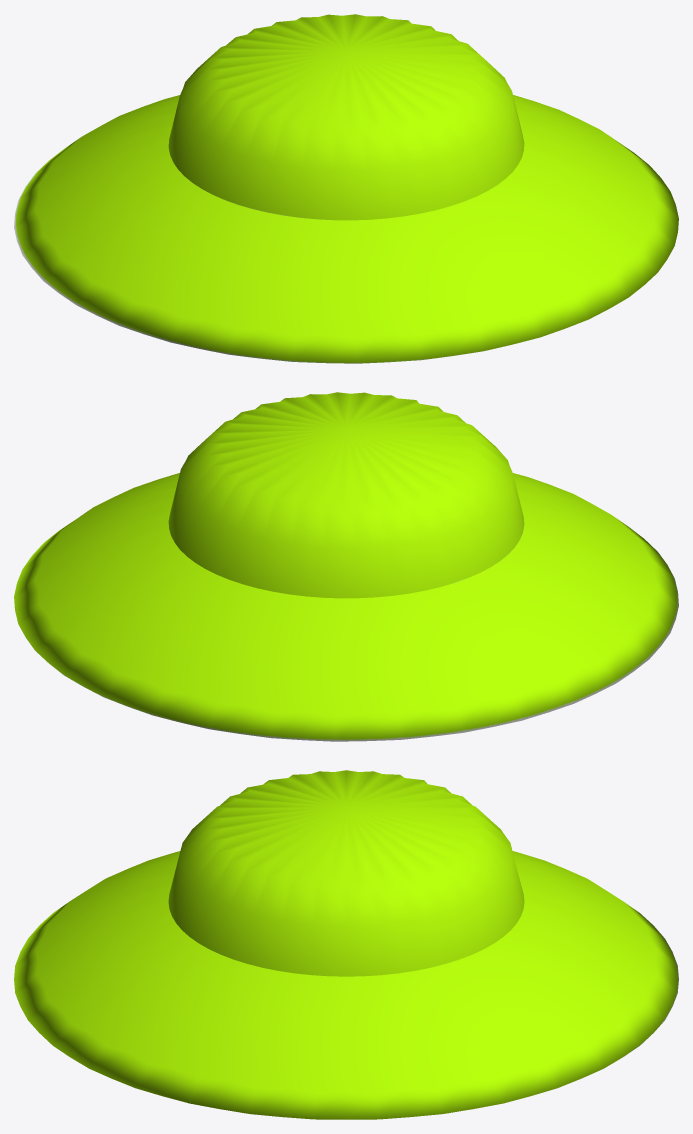
File: lightfixture.fbx
3 views of the same model, one above another, from view 1: azimuth 30°, elevation 25°; view 2: azimuth 150°, elevation 25°; view 3: azimuth 270°, elevation 25° (orthographic).
Visible parts, largest first — view 1: Cone; view 2: Cone; view 3: Cone.
Part boxes in pixels (box(x1,y1,x2,y2)): Cone: box(14, 14, 678, 363); Cone: box(14, 392, 678, 741); Cone: box(14, 770, 678, 1119).
Bounding box in the file's own units: 182 × 63.24 × 182.
